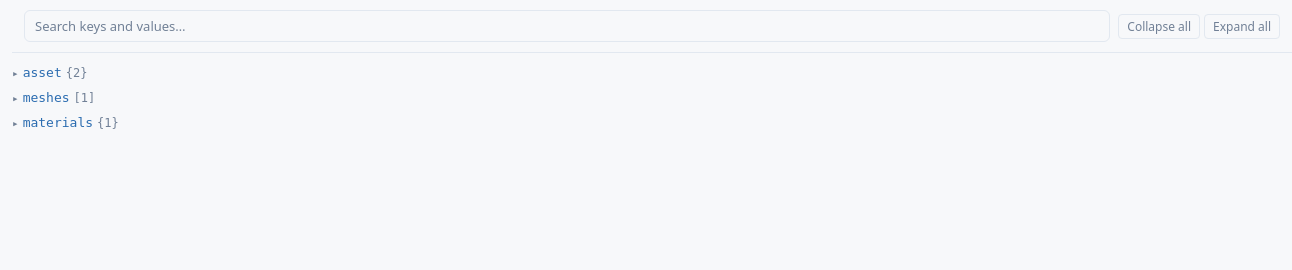
Test: JsonTree – expand/collapse controls › Expand all shows tree-children elements
Click the button titled "Expand all": x=1242, y=26 [1204,14,1280,38]
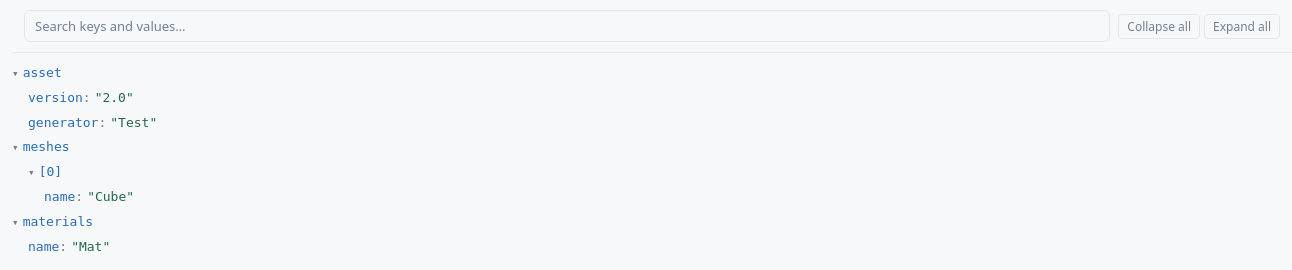
Expected: the element with test id "tree-children" that starts with "version" is shown, [28,90,157,130]
